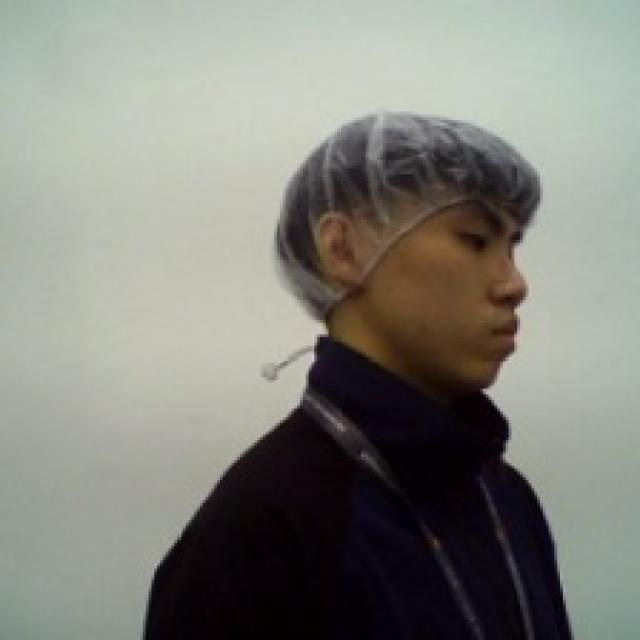gloves: (268, 104, 548, 326)
no_hairnet: (306, 204, 532, 405)
